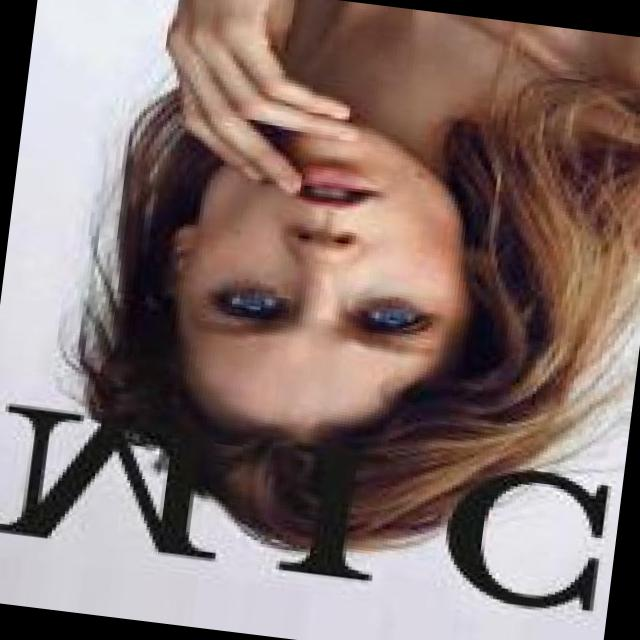bareface: (152, 95, 503, 498)
